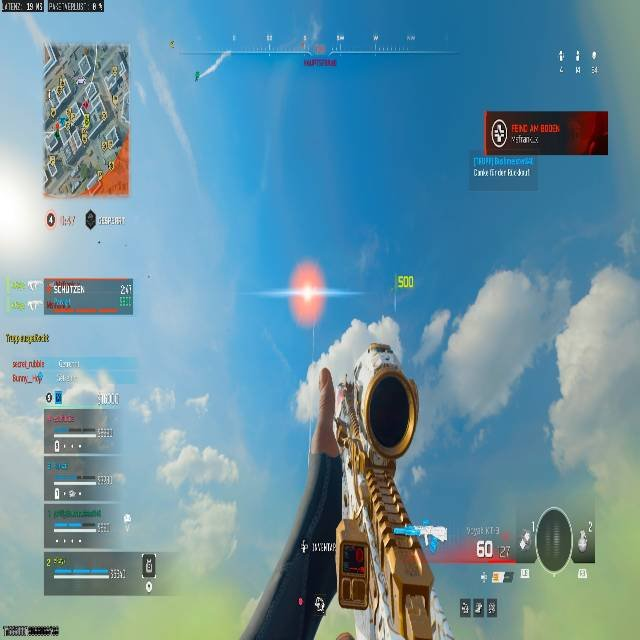head: (288, 258, 326, 320)
player: (113, 403, 238, 580)
